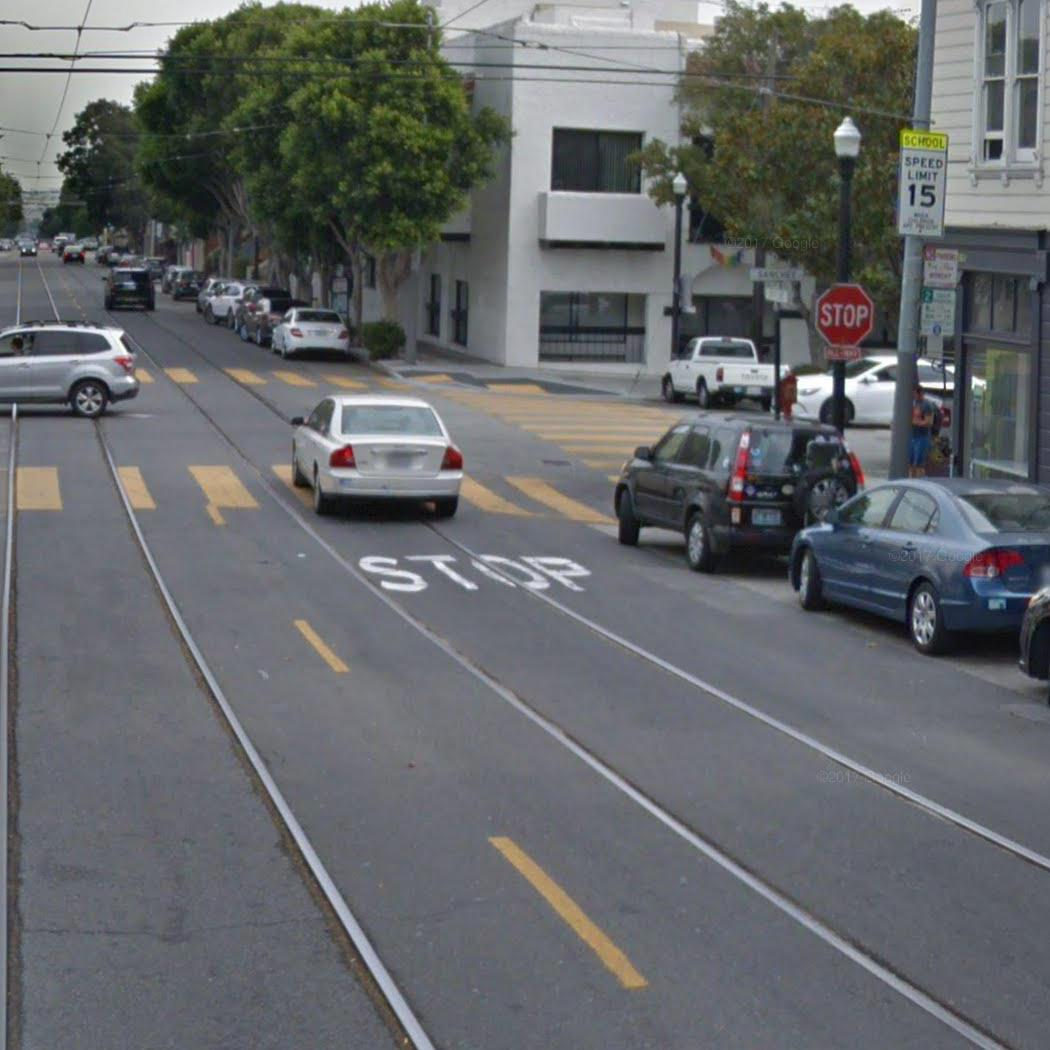2 Hour Parking: (916, 289, 959, 338)
No Parking: (921, 245, 961, 289)
